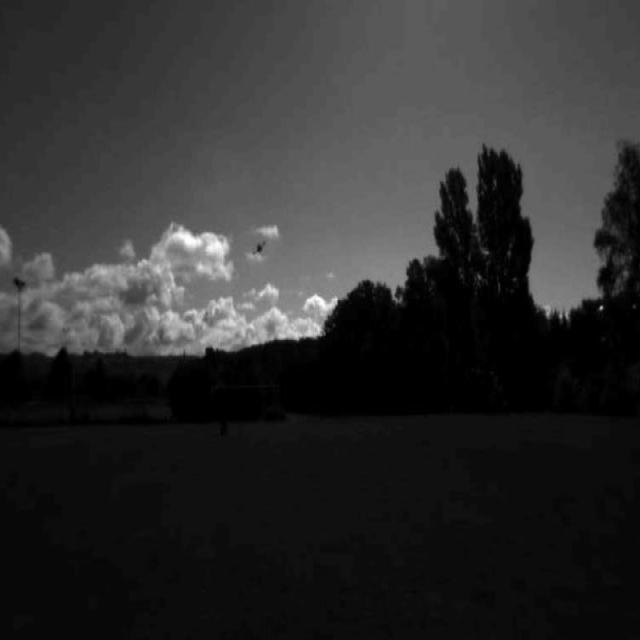drone: (250, 235, 267, 256)
